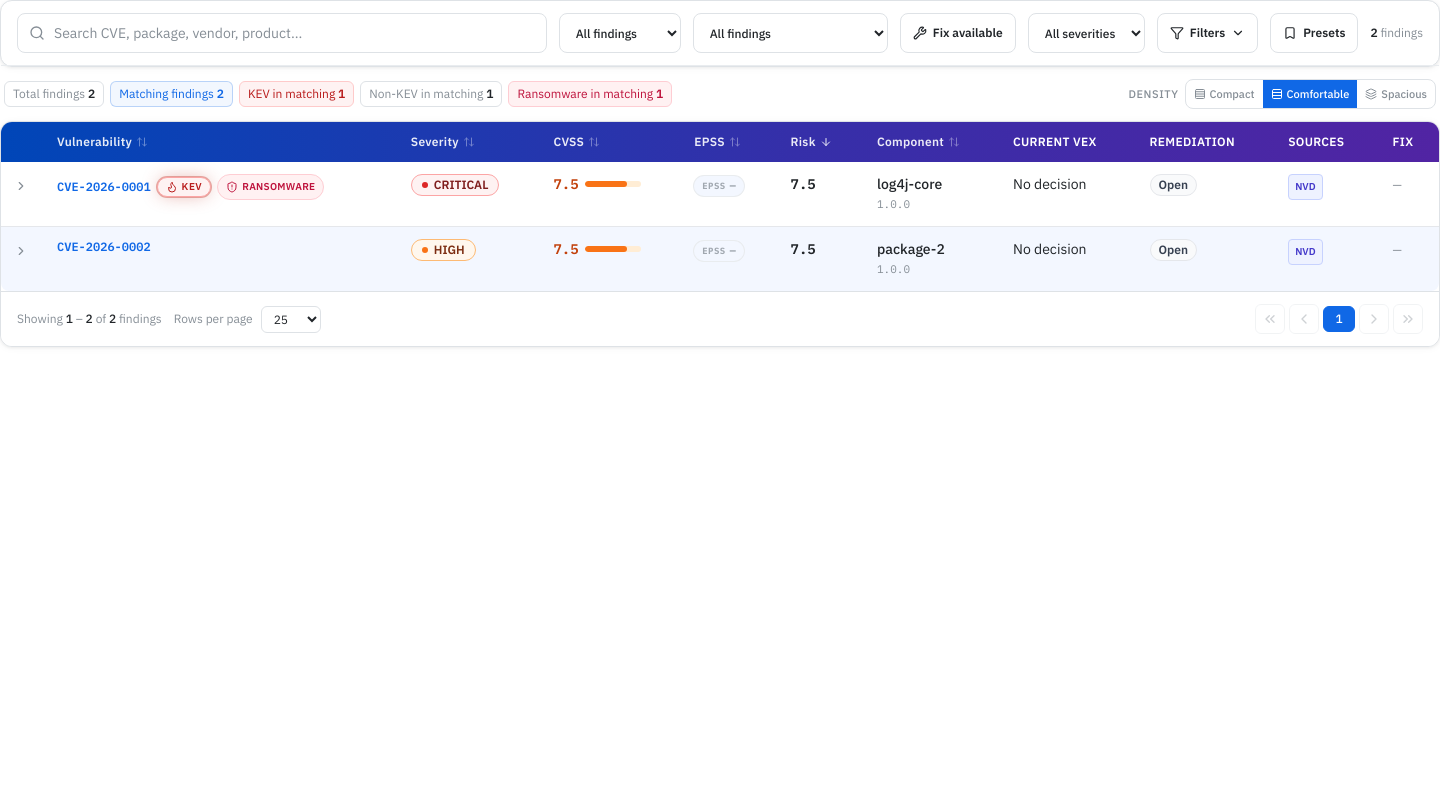
Test case: FindingsTable KEV filters › clears every filter field and restores all findings
Type "log4j" into the search field named "Search findings".
click(282, 33); type("log4j")  # box [17,13,547,53]
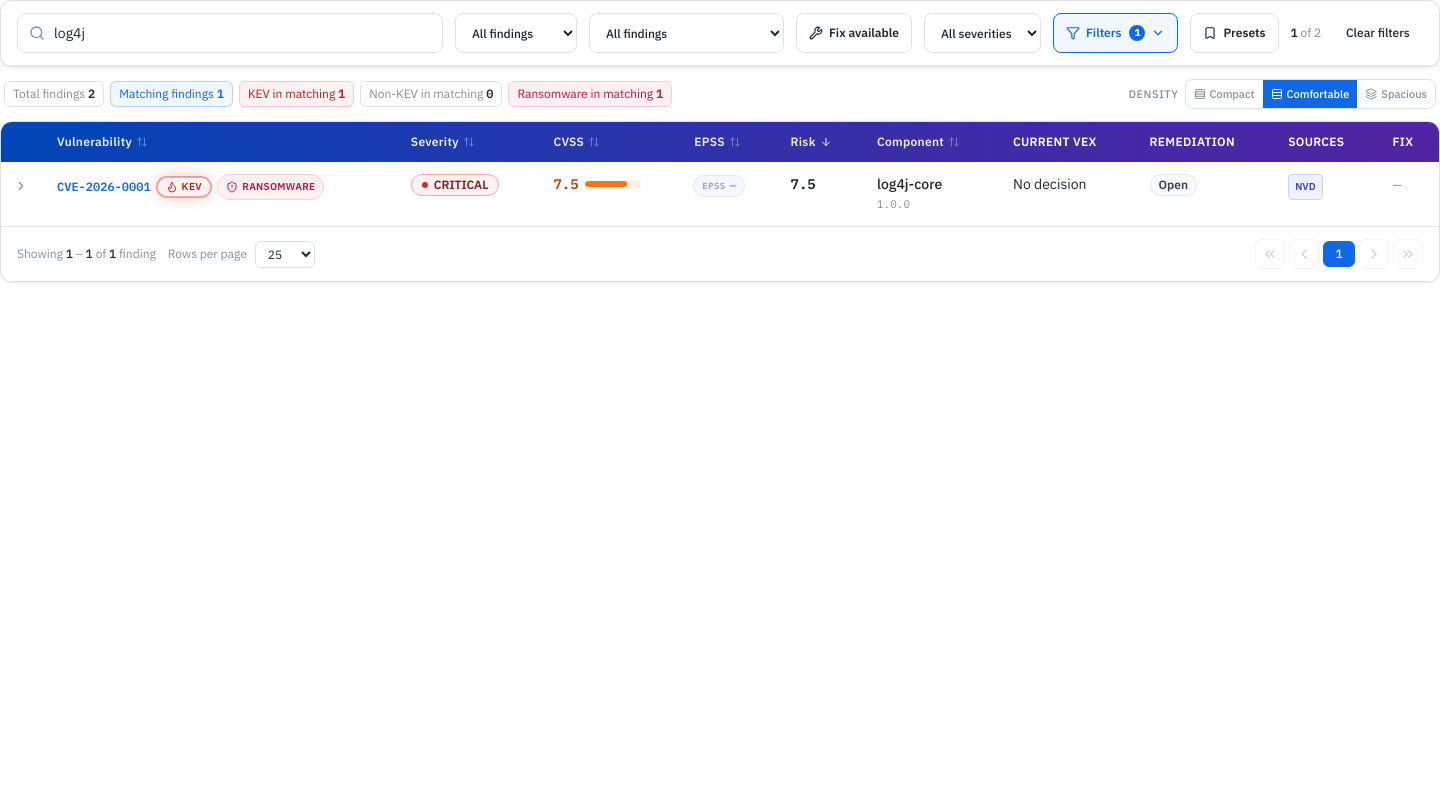
Select "Critical" in the dropdown named "Severity" at (982, 33), box [924,13,1041,53]
Select "KEV only" in the dropdown named "KEV status" at (516, 33), box [455,13,577,53]
Select "Known ransomware use" in the dropdown named "Ransomware status" at (686, 33), box [589,13,784,53]
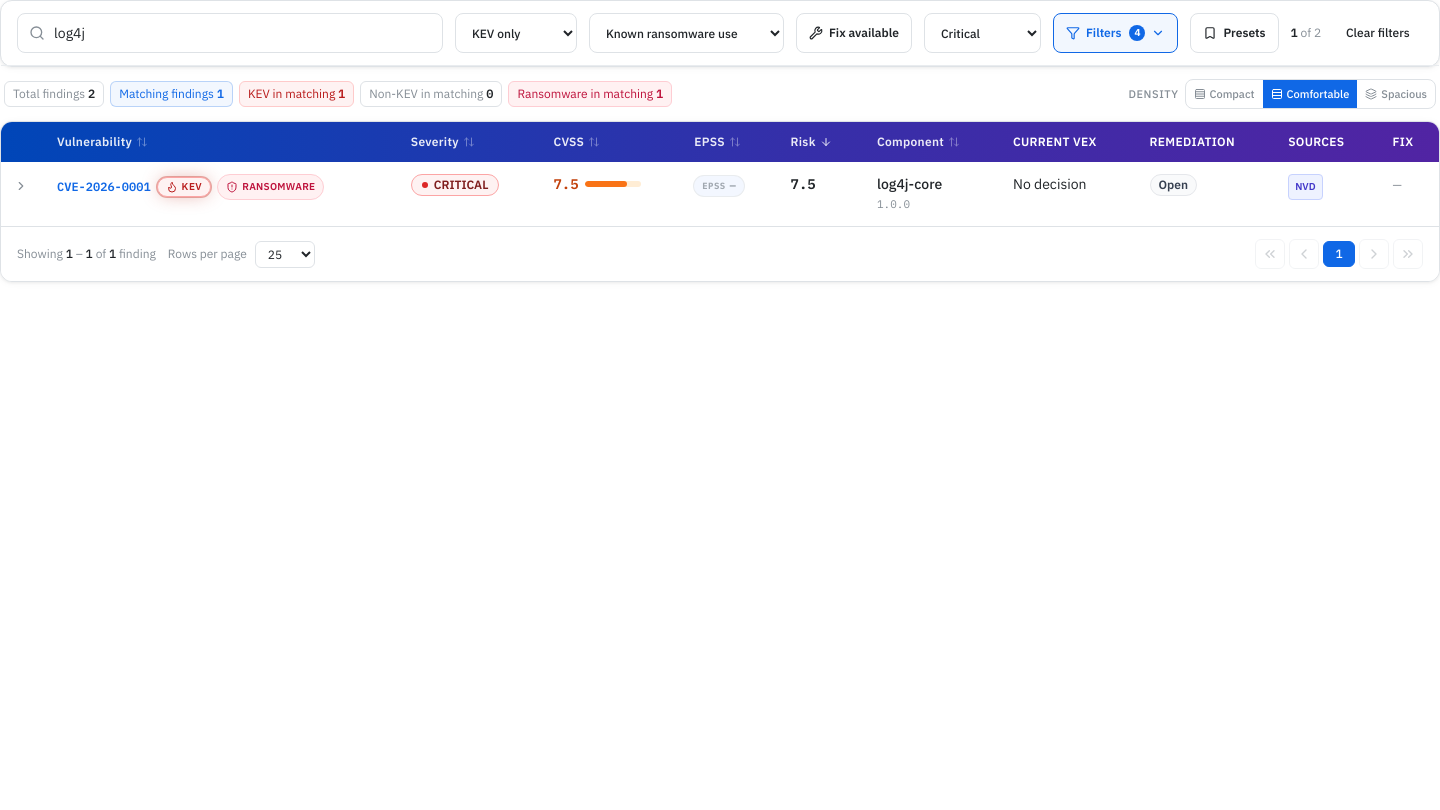
Click the button "Filters 4".
click(1116, 33)  # box [1053,13,1178,53]
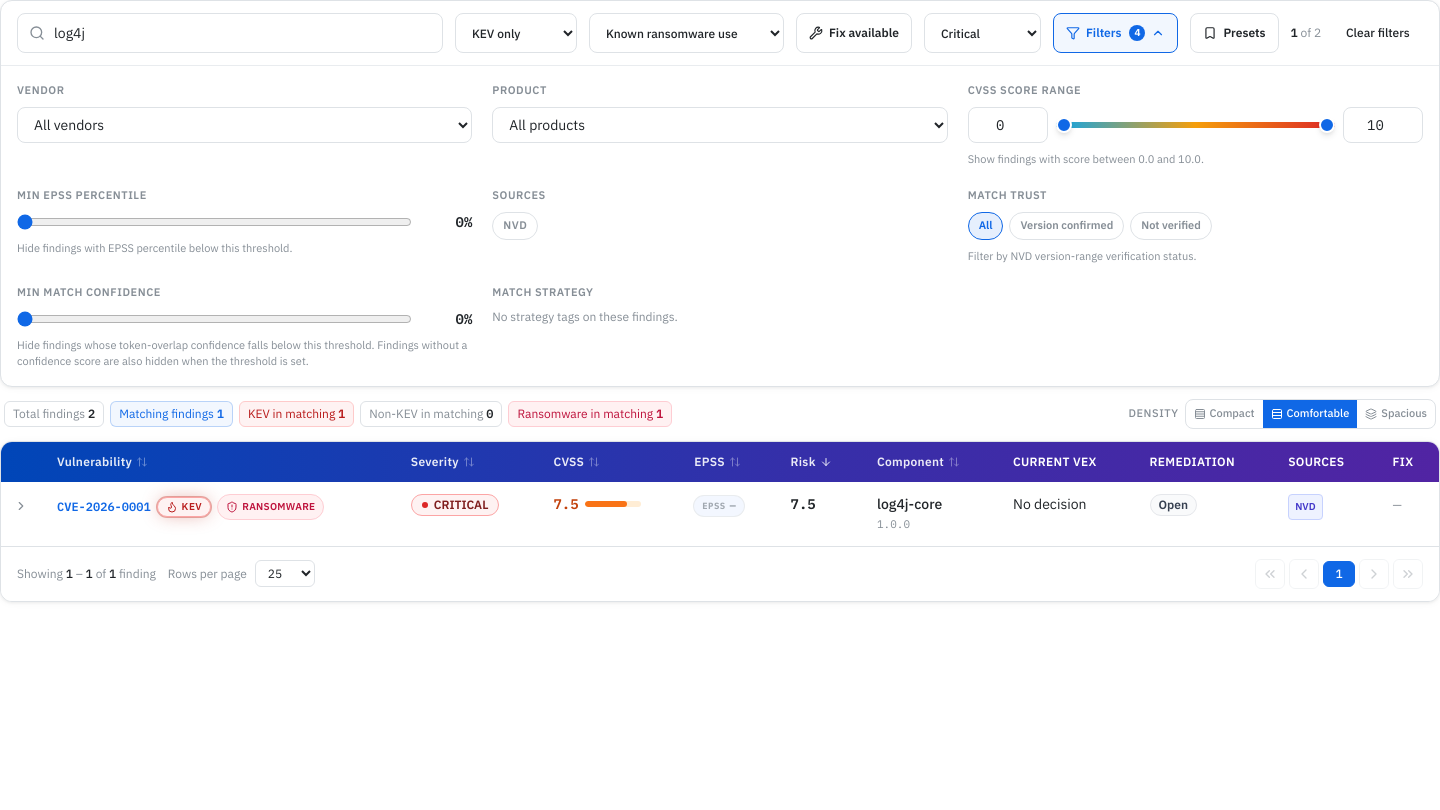
Select "Apache" in the dropdown labelled "Vendor" at (245, 124), box [17,106,472,142]
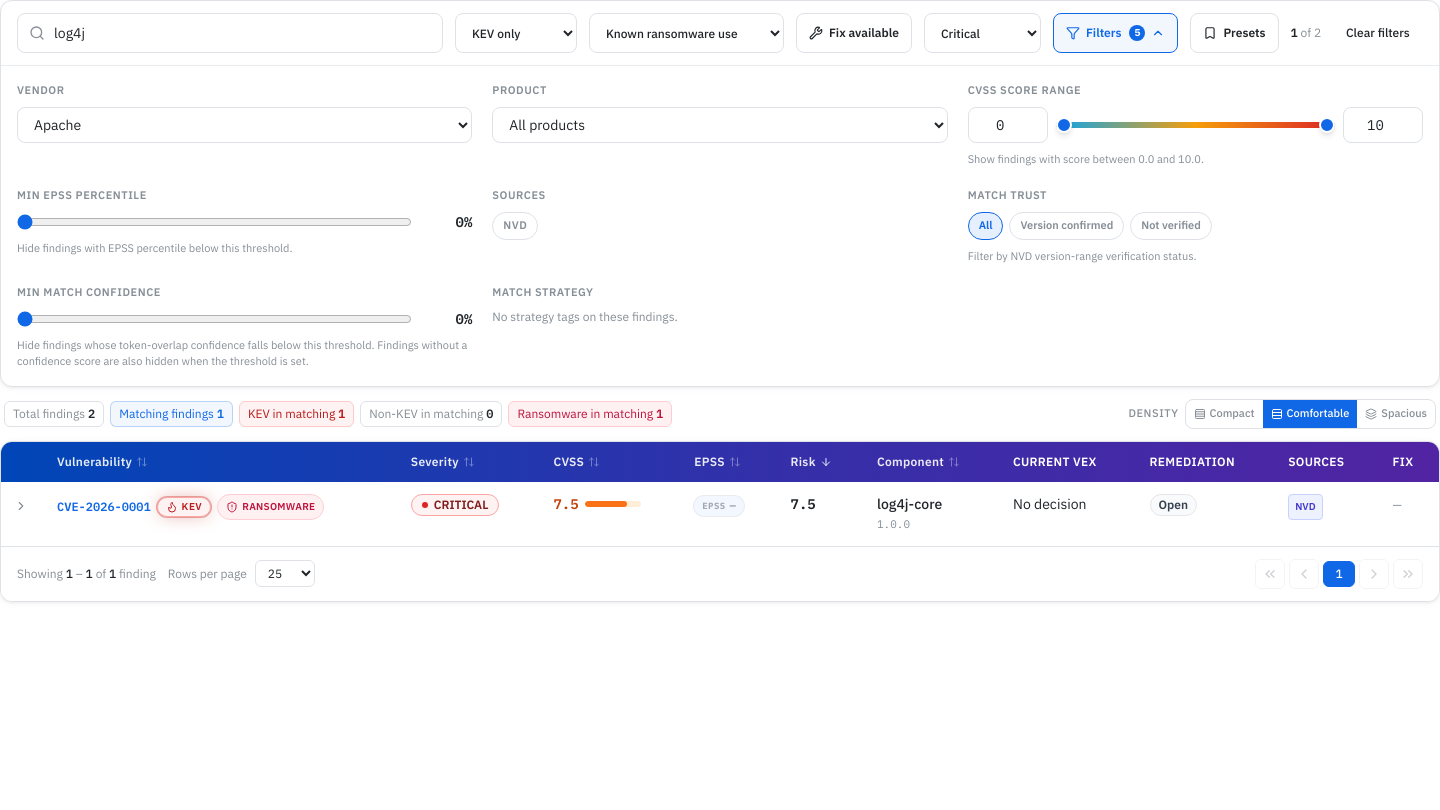
Select "Log4j2" in the dropdown labelled "Product" at (720, 124), box [492,106,948,142]
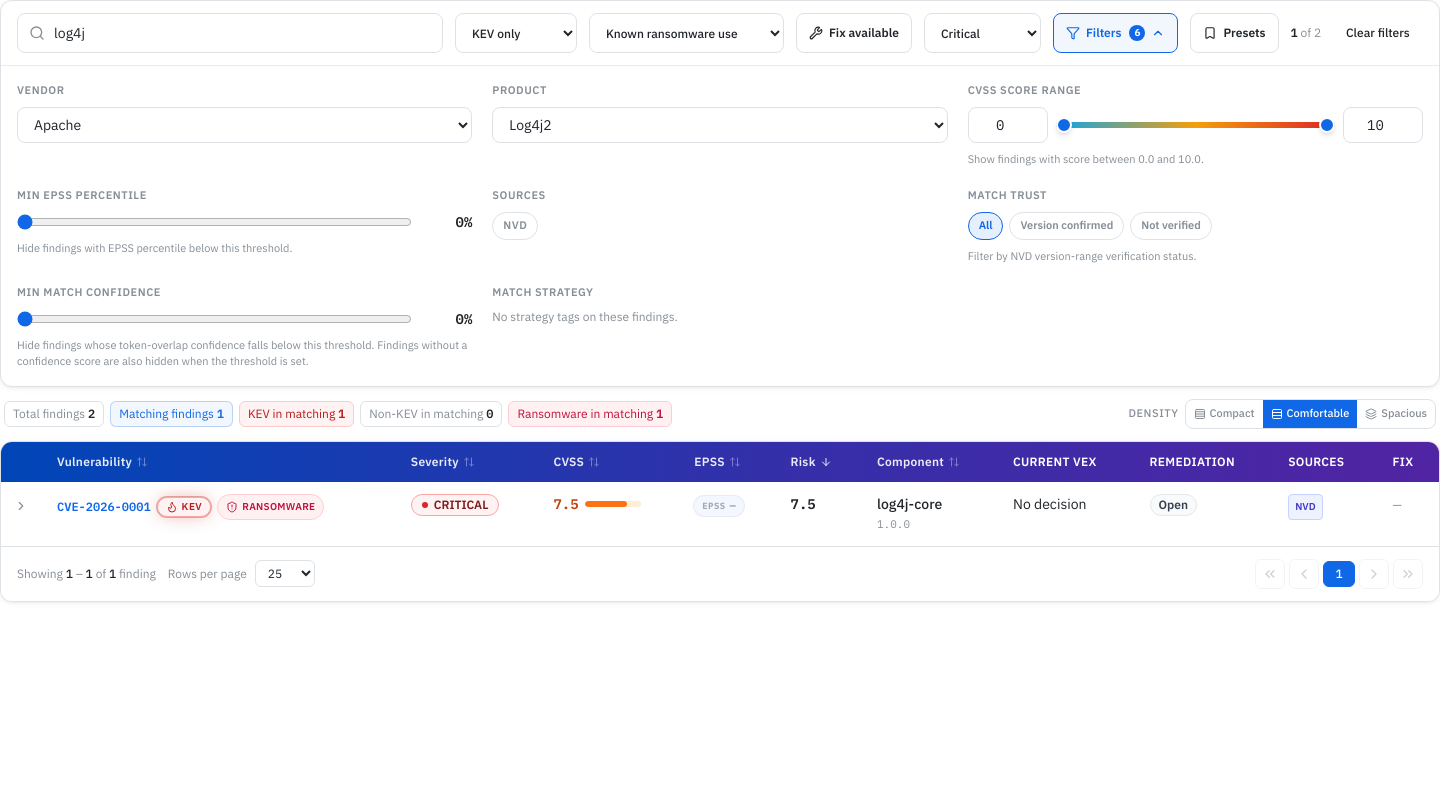
expect the button "Filters 6" is shown: met, box [1053,13,1178,53]
Click the button "Clear filters".
click(1378, 33)  # box [1333,17,1423,49]
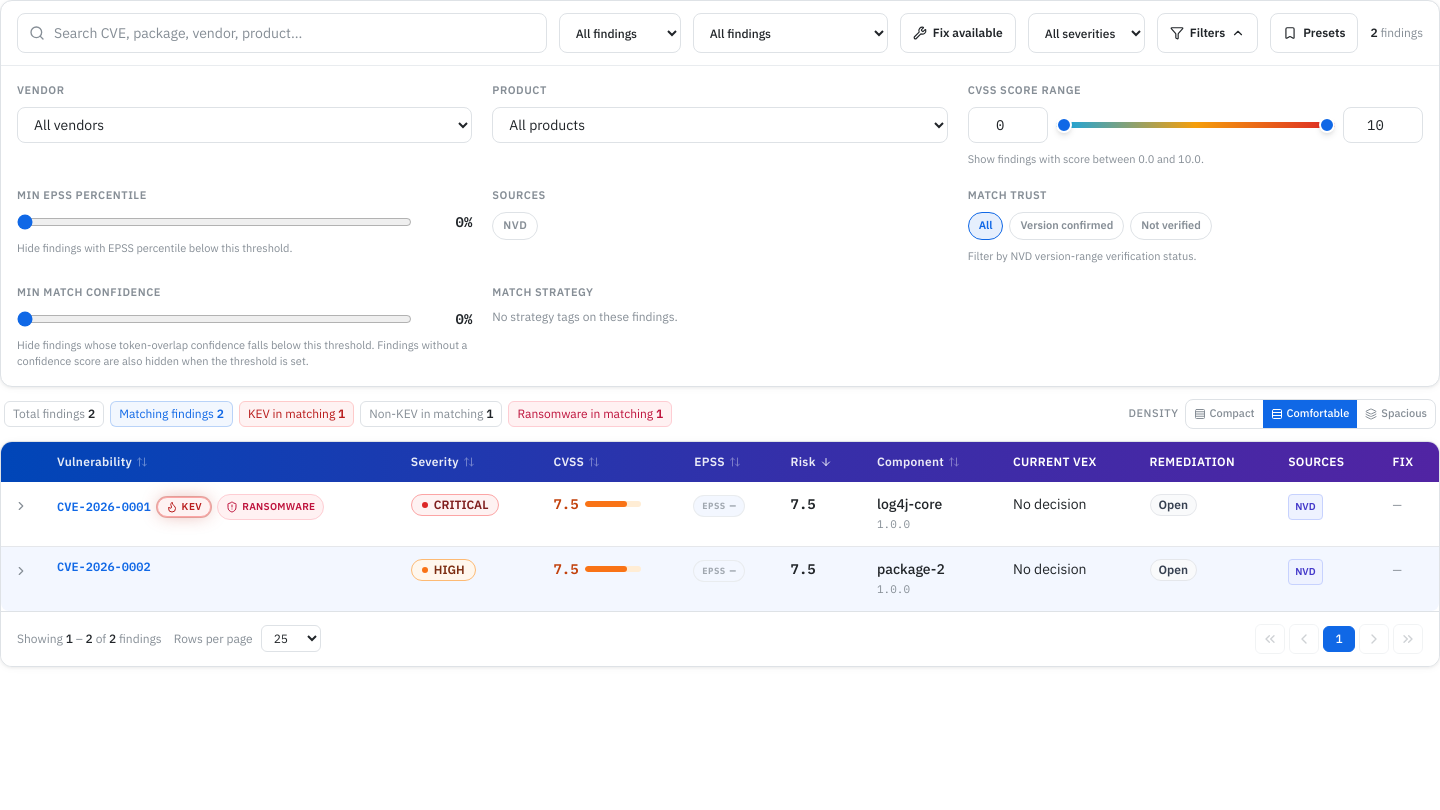
expect the search field is empty: met, box [17,13,547,53]
expect the text "Matching findings 2" is shown: met, box [110,400,233,426]
